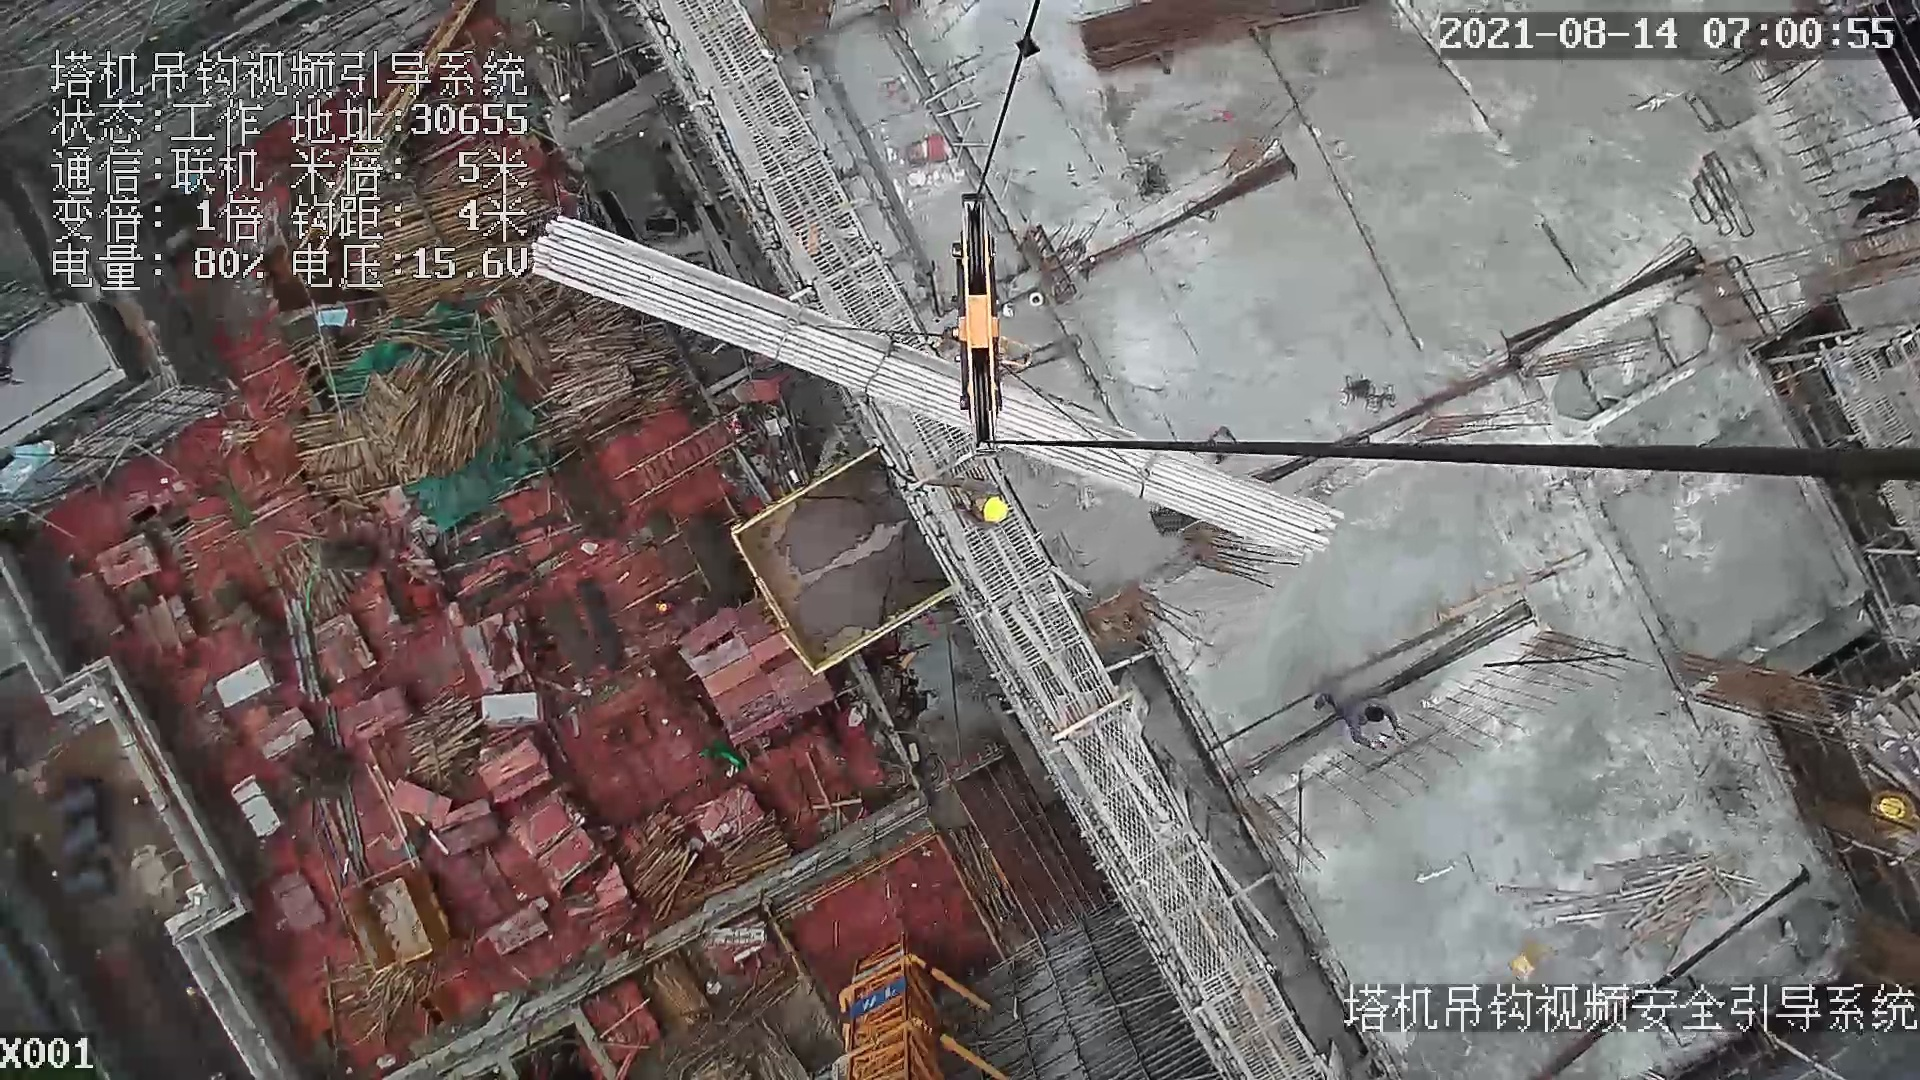helmet: (980, 491, 1011, 523)
hook: (944, 187, 1018, 459)
person: (1309, 690, 1408, 750), (962, 477, 1021, 534)
